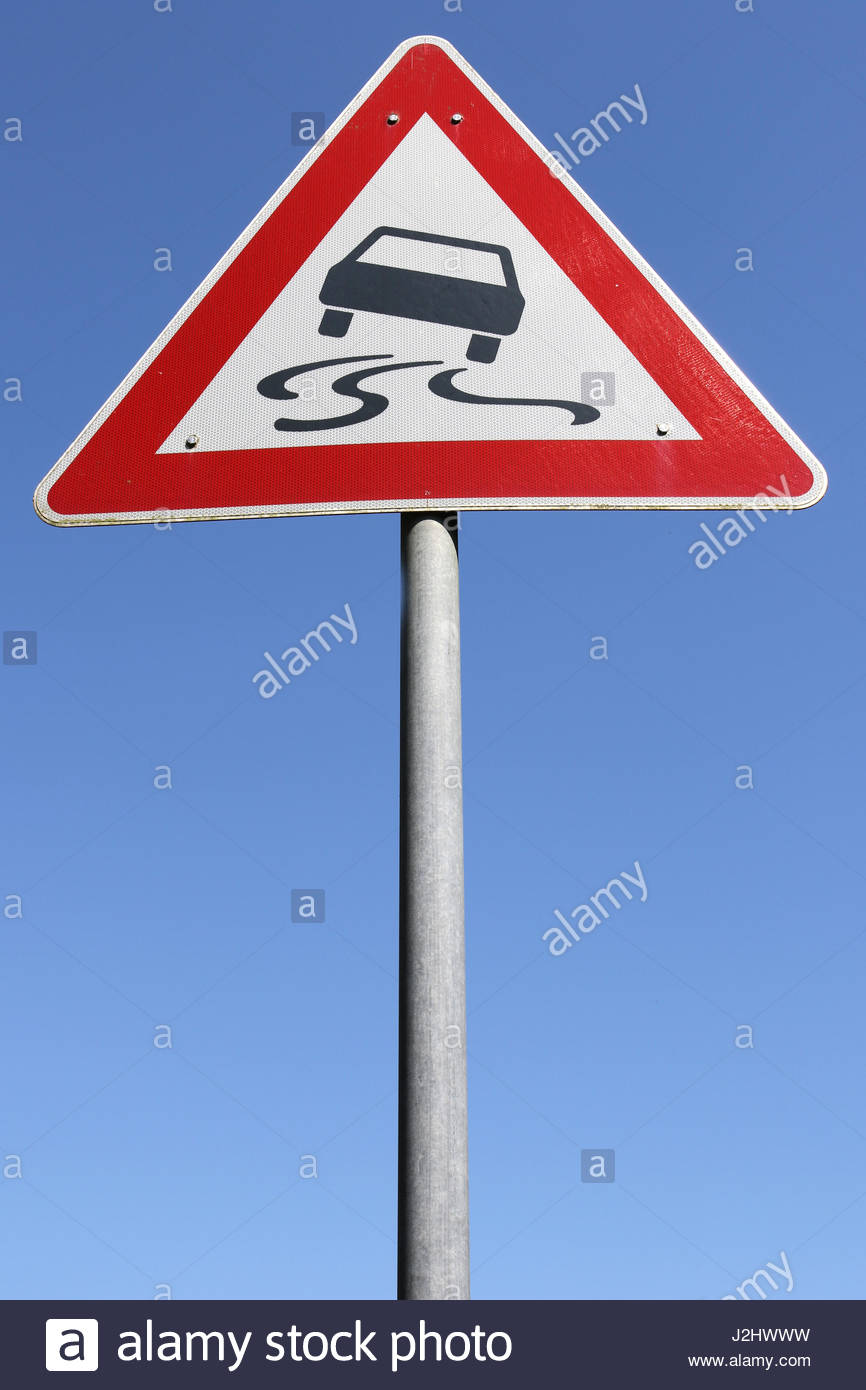crop: (25, 28, 836, 538)
